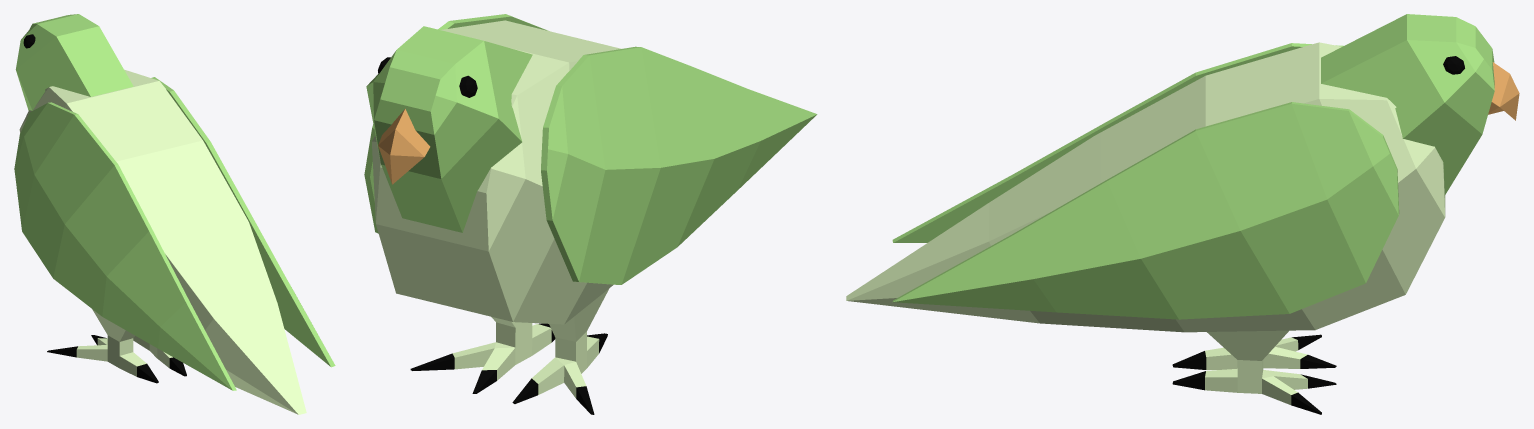
File: Angus Model.fbx
3 views of the same model, side by side, from view 1: azimuth 30°, elevation 25°; view 2: azimuth 150°, elevation 25°; view 3: azimuth 270°, elevation 25° (orthographic). The views are drawn at different scales.
Parts seen in each view (by area): view 1: Angus Body, Left Wing, Head, Right Wing, Left Leg, Right Leg; view 2: Left Wing, Angus Body, Head, Left Leg, Right Leg, Right Wing; view 3: Right Wing, Angus Body, Head, Right Leg, Left Wing, Left Leg.
Boxes of the visible parts, x1,y1,x2,y2 form: Angus Body: (19, 69, 306, 414); Left Wing: (14, 102, 236, 390); Head: (15, 14, 133, 110); Right Wing: (151, 77, 335, 367); Left Leg: (47, 309, 158, 383); Right Leg: (133, 336, 186, 376); Left Wing: (541, 46, 817, 284); Angus Body: (371, 20, 621, 324); Head: (366, 26, 532, 232); Left Leg: (512, 289, 608, 414); Right Leg: (410, 316, 555, 393); Right Wing: (364, 14, 548, 233); Right Wing: (892, 102, 1399, 319); Angus Body: (846, 42, 1445, 332); Head: (1321, 14, 1519, 195); Right Leg: (1172, 330, 1336, 414); Left Wing: (892, 43, 1343, 242); Left Leg: (1172, 334, 1336, 369).
Size of the model in its own units: 38.56 by 64.79 by 113.
